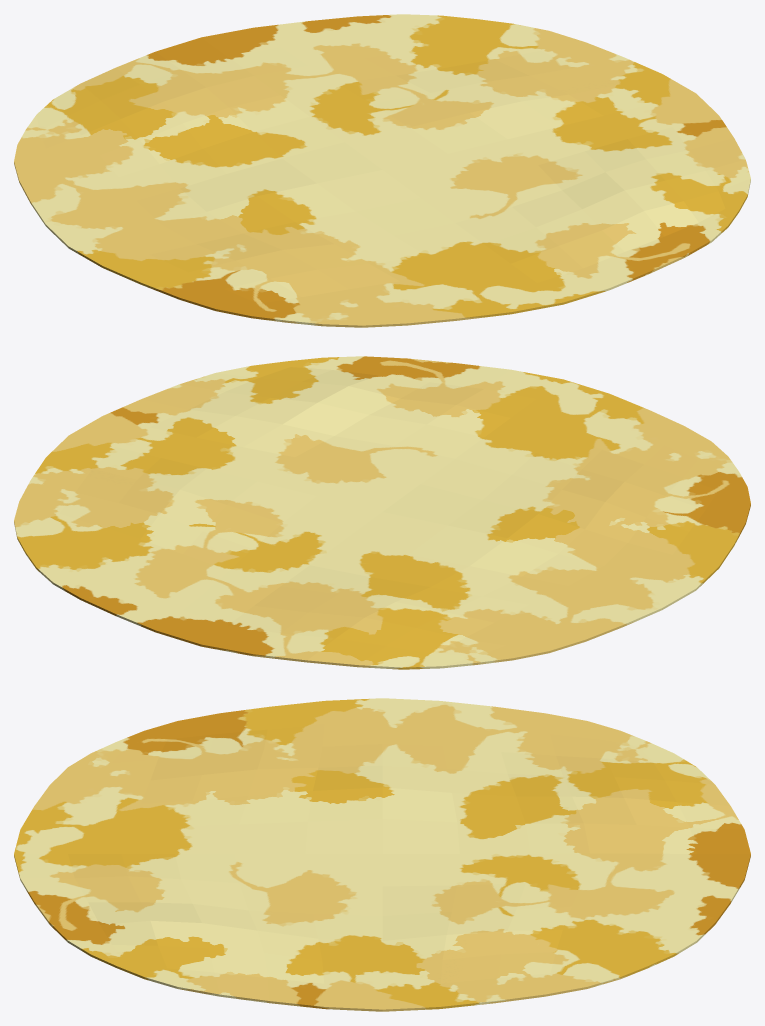
File: rug.fbx
3 views of the same model, one above another, from view 1: azimuth 30°, elevation 25°; view 2: azimuth 150°, elevation 25°; view 3: azimuth 270°, elevation 25° (orthographic).
Visible parts, largest first — view 1: Plane; view 2: Plane; view 3: Plane.
Boxes of the visible parts, x1=… form: Plane: x1=14, y1=14, x2=750, y2=327; Plane: x1=14, y1=356, x2=750, y2=669; Plane: x1=14, y1=698, x2=750, y2=1011.
Bounding box in the file's own units: 248 × 3.4 × 248.
Materials: 1 (1 with a texture image).
